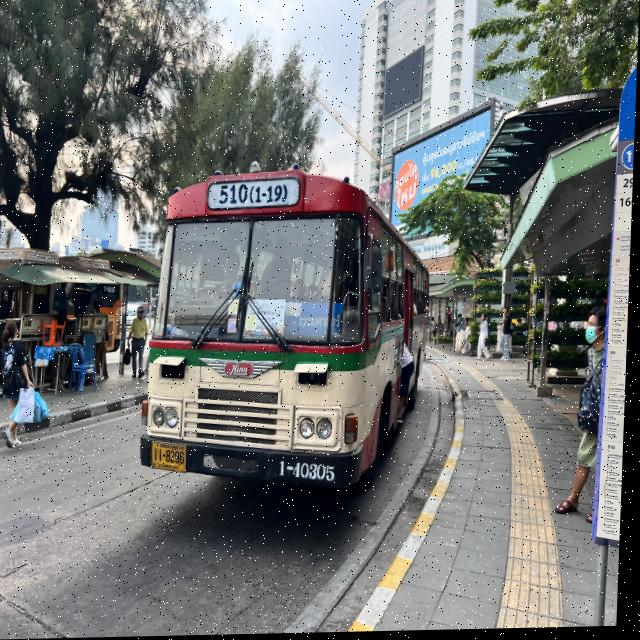BMTA-bus: (141, 172, 432, 496)
Bus Line Number: (210, 180, 303, 210)
Bus Side Number: (276, 454, 347, 487)
Destination Sign: (284, 302, 346, 339)
